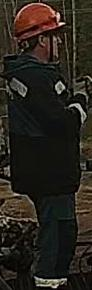gloves: (74, 76, 92, 115)
helmet: (12, 2, 67, 41)
vest: (1, 56, 81, 196)
